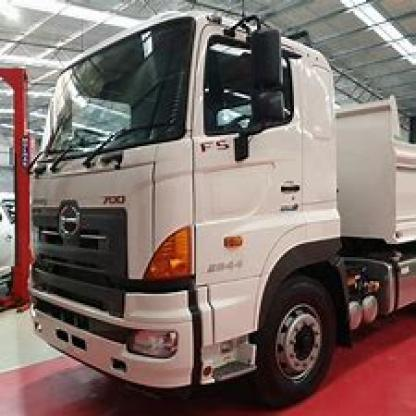dump_truck: (24, 17, 414, 403)
